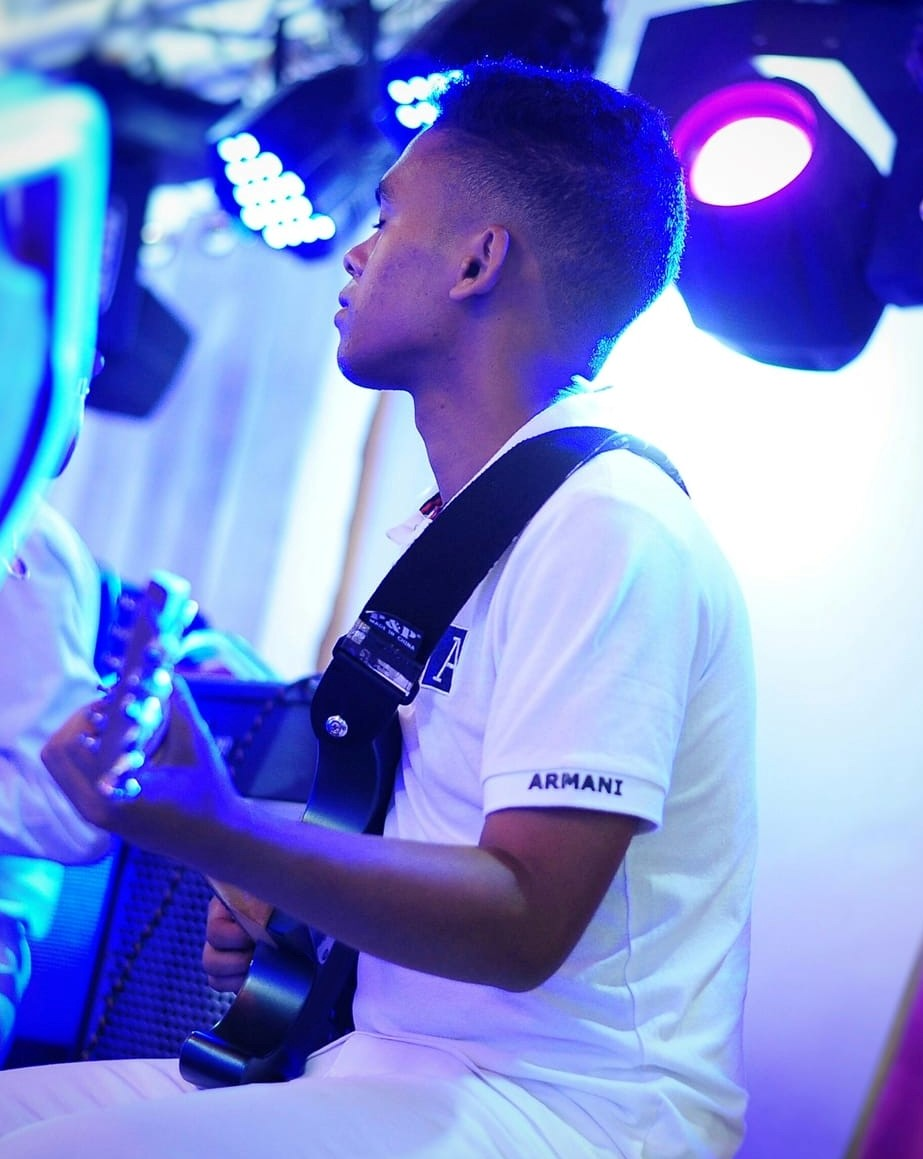BOY: (323, 61, 683, 433)
